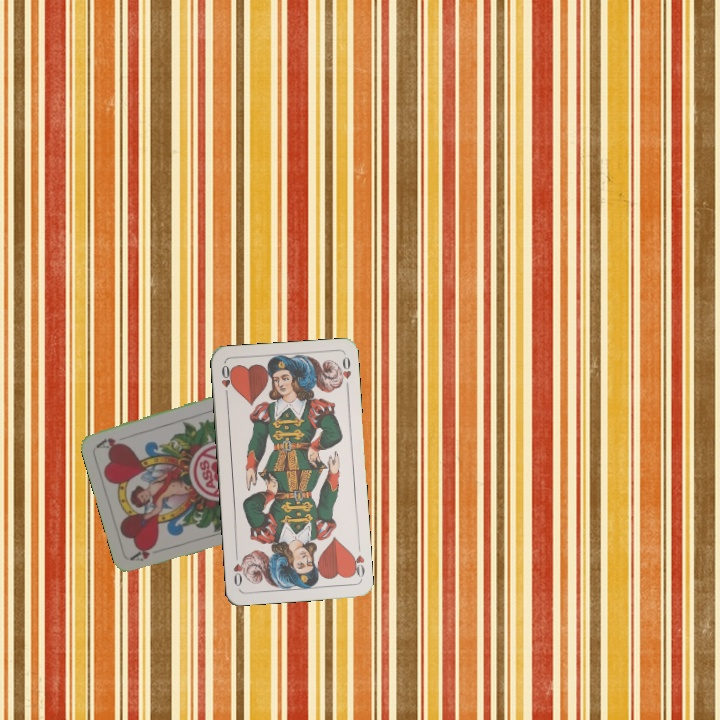HA: (127, 540, 159, 564)
HO: (217, 361, 235, 401), (347, 548, 367, 581)
